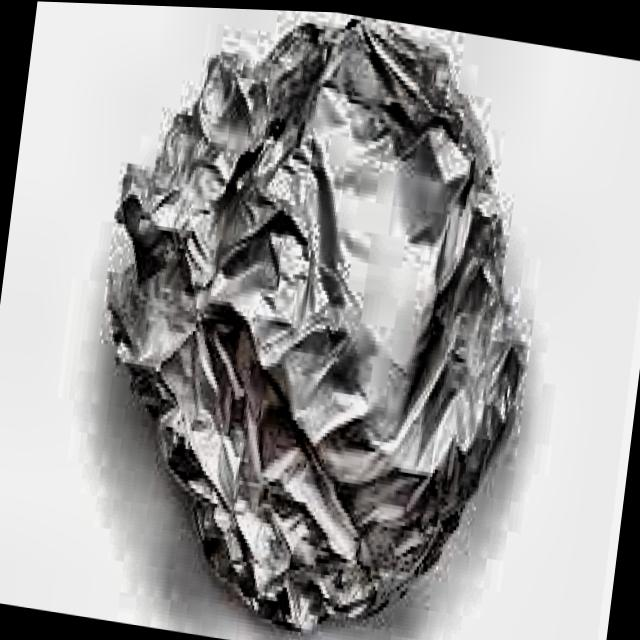Foil: (52, 2, 571, 640)
